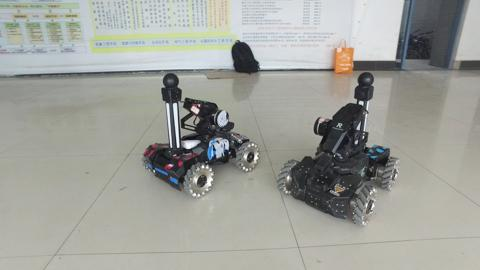chariot: (279, 69, 400, 232), (140, 69, 260, 206)
